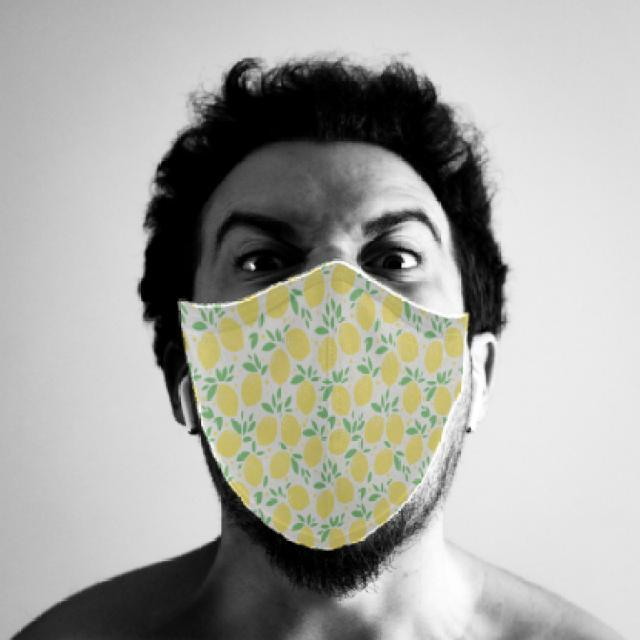mask: (175, 265, 475, 552)
